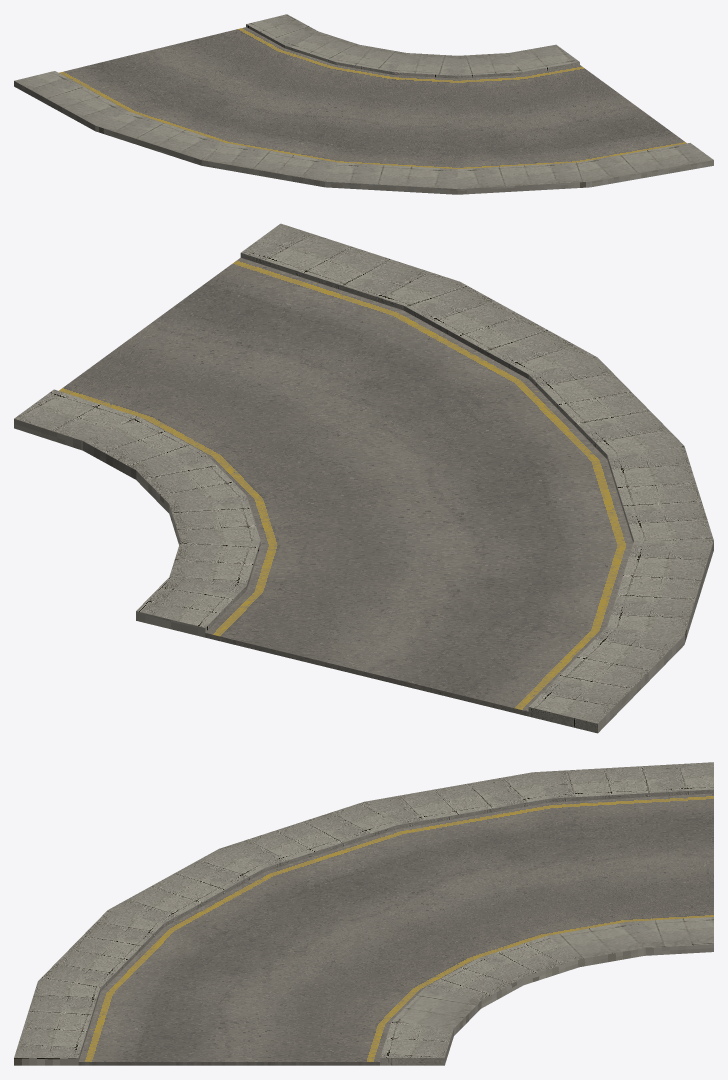
Rendered from road_2_long_corner.glb.
The picture shows the model from 3 angles, top to bottom: view 1: azimuth 30°, elevation 25°; view 2: azimuth 150°, elevation 25°; view 3: azimuth 270°, elevation 25°; orthographic projection. The views are drawn at different scales.
Parts seen in each view (by area): view 1: road_2_long_corner; view 2: road_2_long_corner; view 3: road_2_long_corner.
Part boxes in pixels (<box>): road_2_long_corner: <box>14,14,713,194</box>; road_2_long_corner: <box>14,223,713,733</box>; road_2_long_corner: <box>14,762,713,1065</box>.
Size of the model in its own units: 26 by 0.32 by 26.
Materials: 2 (2 with a texture image).
